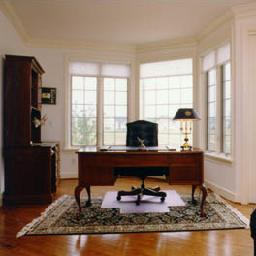Armario: (6, 58, 58, 198)
Ventana: (70, 69, 126, 146), (204, 56, 238, 161), (143, 82, 193, 146)
